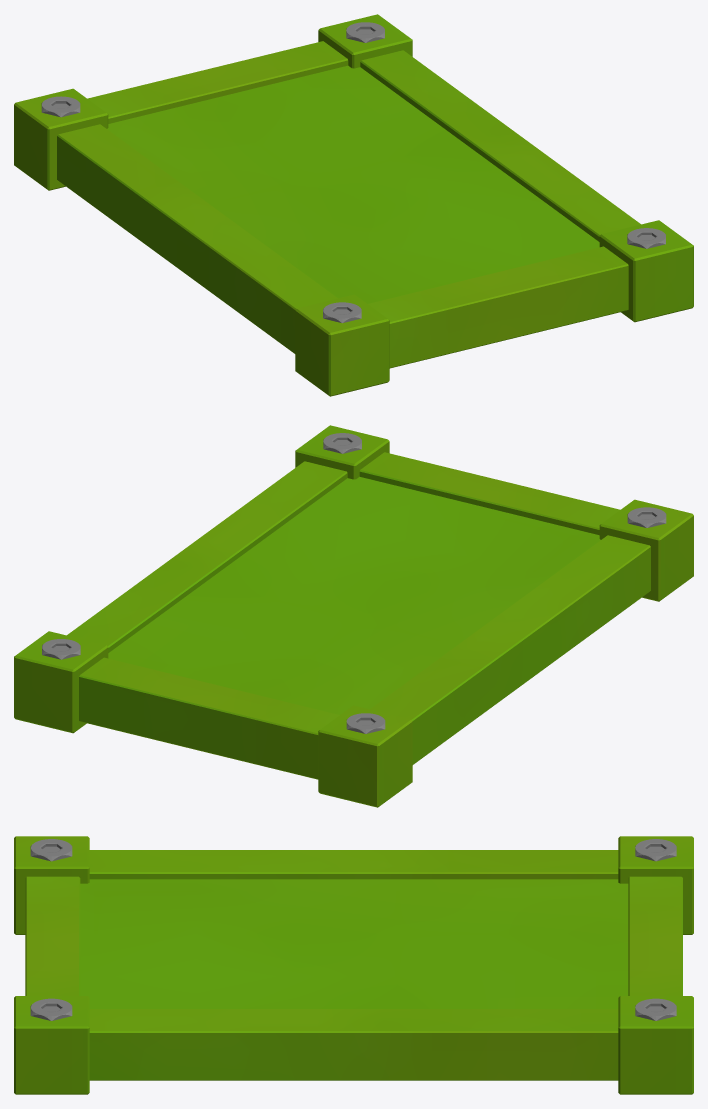
File: FramedRectanglePlatformGreen.fbx
3 renders of one model, top to bottom at view 1: azimuth 30°, elevation 25°; view 2: azimuth 150°, elevation 25°; view 3: azimuth 270°, elevation 25°, orthographic. The views are drawn at different scales.
Visible parts, largest first — view 1: Cube, Cube.001; view 2: Cube, Cube.001; view 3: Cube, Cube.001.
Boxes of the visible parts, box(x1,y1,x2,y2) form: Cube: box(14, 14, 693, 396); Cube.001: box(41, 22, 665, 323); Cube: box(14, 425, 693, 807); Cube.001: box(42, 433, 666, 733); Cube: box(14, 836, 693, 1094); Cube.001: box(30, 839, 676, 1020).
Bounding box in the file's own units: 6 × 1.05 × 9.
